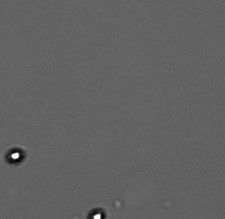Living Cell: (5, 146, 26, 165), (87, 209, 105, 219)
